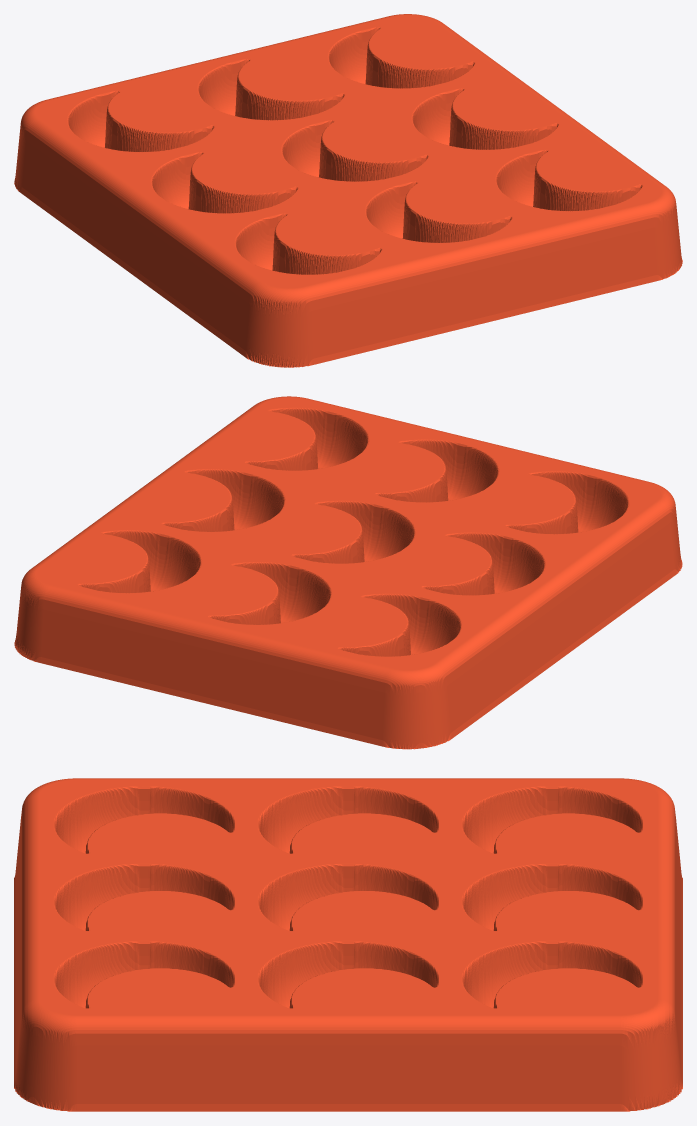
The model's file is mold.glb.
The picture shows the model from 3 angles, top to bottom: view 1: azimuth 30°, elevation 25°; view 2: azimuth 150°, elevation 25°; view 3: azimuth 270°, elevation 25°; orthographic projection. The views are drawn at different scales.
Visible parts, largest first — view 1: geometry_0; view 2: geometry_0; view 3: geometry_0.
Part boxes in pixels (x1,y1,x2,y2): geometry_0: [14, 14, 682, 367]; geometry_0: [14, 396, 682, 749]; geometry_0: [14, 778, 682, 1111].
Size of the model in its own units: 0.0874 by 0.0136 by 0.0964.
